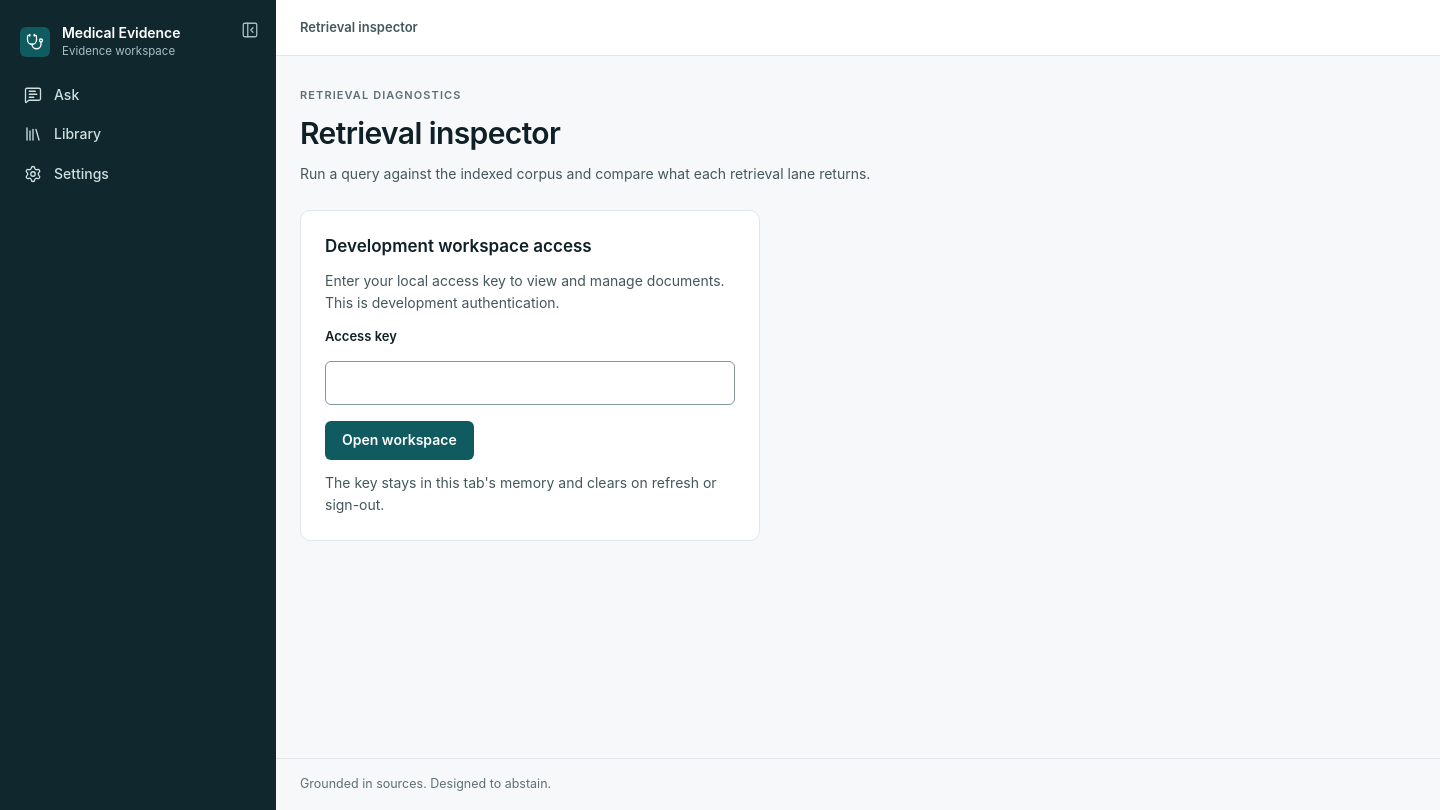
Test: says plainly that the selection is diagnostic only
Type "test-key" into the password field labelled "Access key" at (530, 383), box [325,361,735,406]
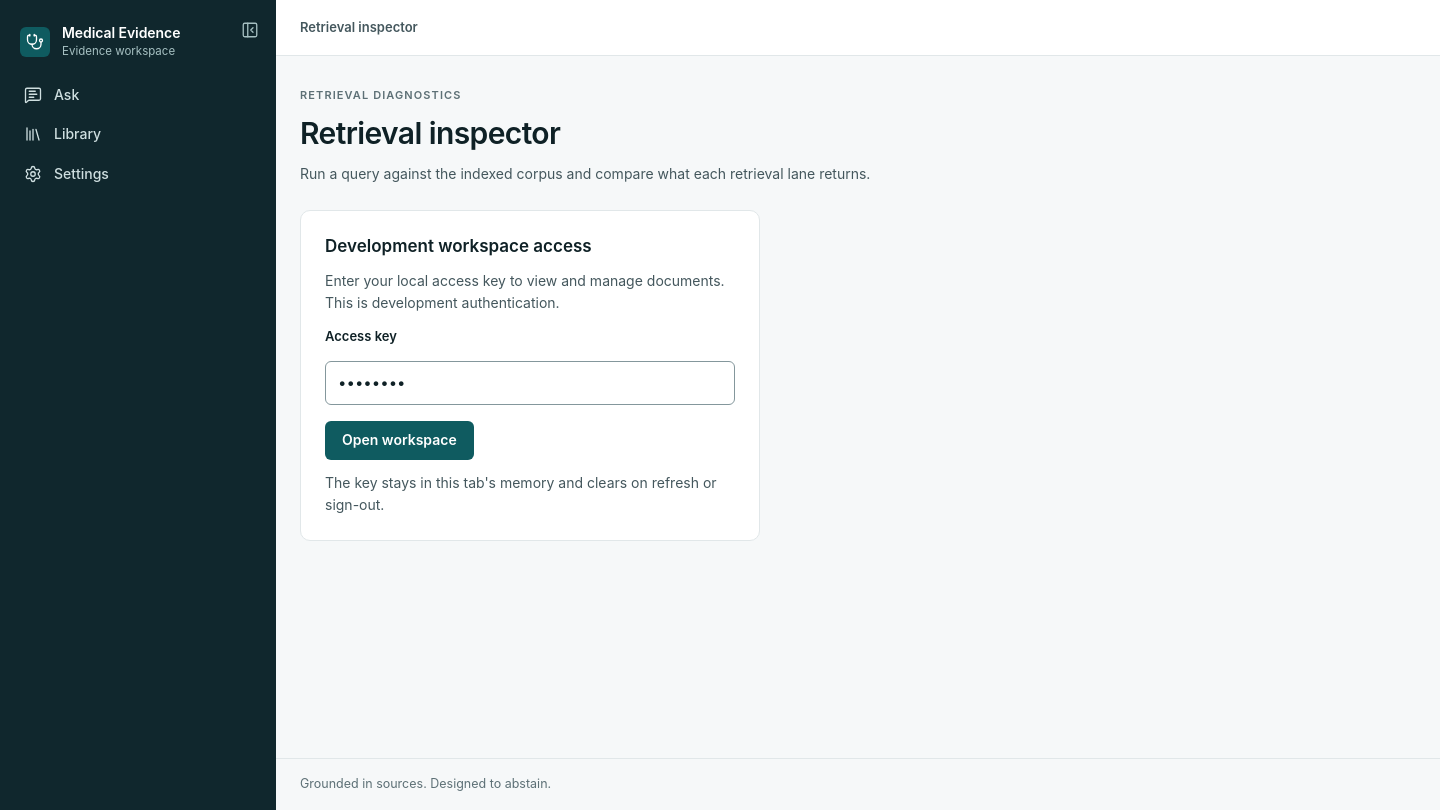
Click the button "Open workspace" at (399, 440), box [325,421,474,460]
(page scrolled)
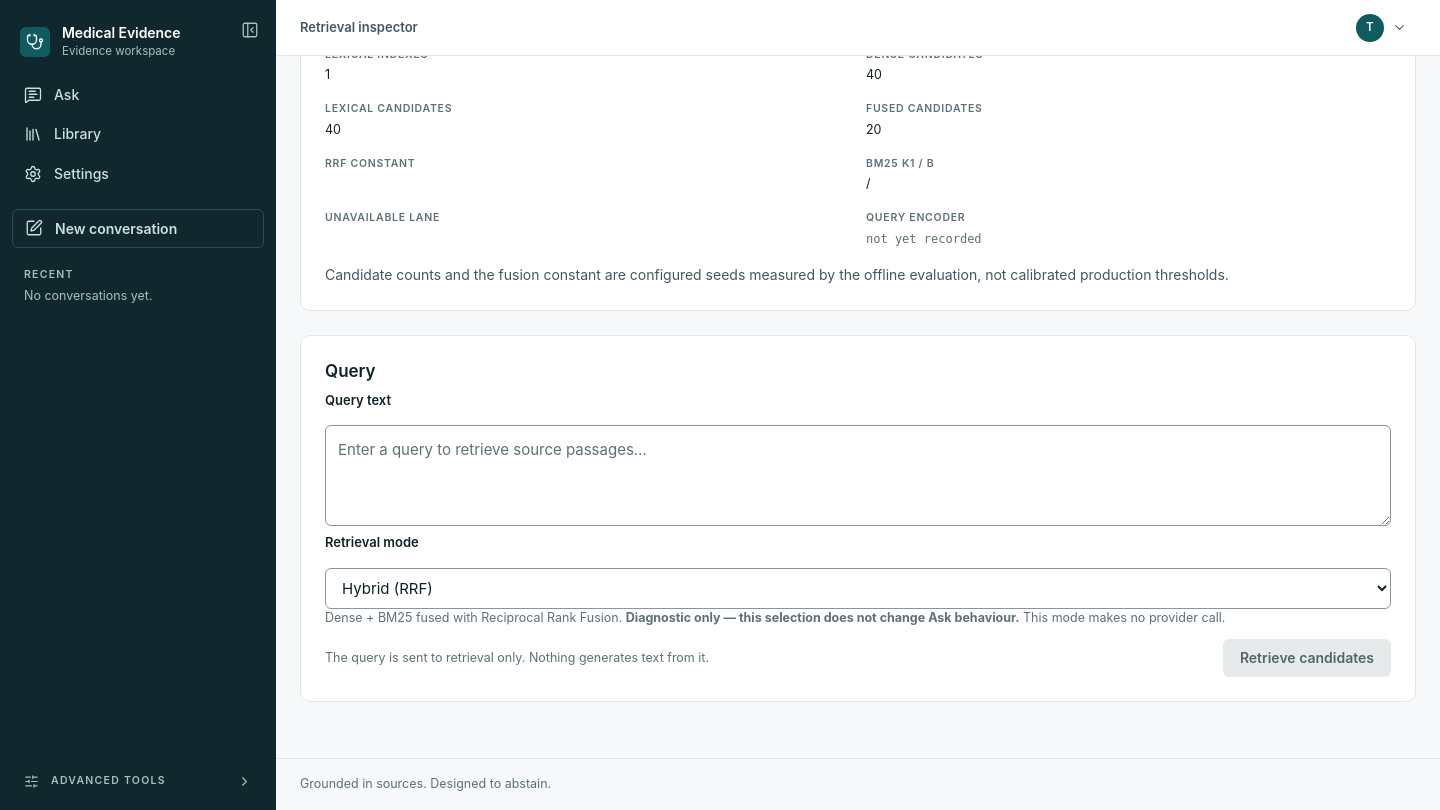
Expected: the text "Diagnostic only — this selection does not change Ask behaviour." is shown, [626,610,1020,624]
